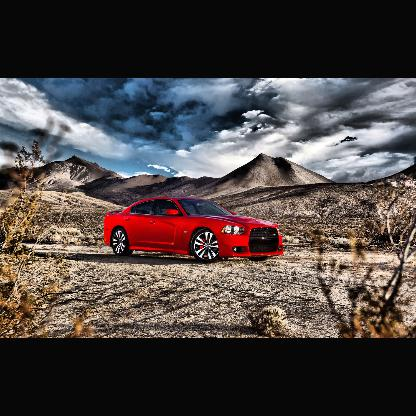Dodge Charger Sedan 2012: (103, 194, 286, 263)
